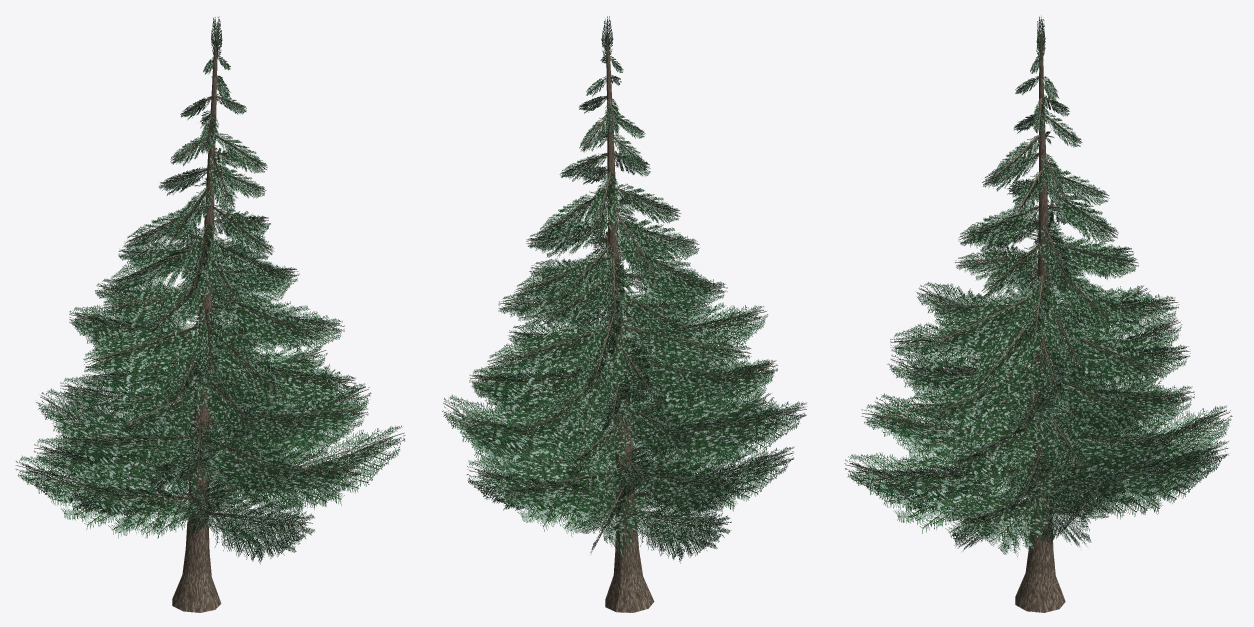
File: pinheiro_nv_b.glb
The picture shows the model from 3 angles, left to right: view 1: azimuth 30°, elevation 25°; view 2: azimuth 150°, elevation 25°; view 3: azimuth 270°, elevation 25°; orthographic projection. The views are drawn at different scales.
Visible parts, largest first — view 1: pinheiro_nv_b; view 2: pinheiro_nv_b; view 3: pinheiro_nv_b.
Part boxes in pixels (bbox=[...]): pinheiro_nv_b: bbox=[15, 16, 405, 612]; pinheiro_nv_b: bbox=[442, 16, 806, 612]; pinheiro_nv_b: bbox=[844, 16, 1232, 612].
Bounding box in the file's own units: 6.1 × 10.01 × 6.04.
Materials: 2 (2 with a texture image).
